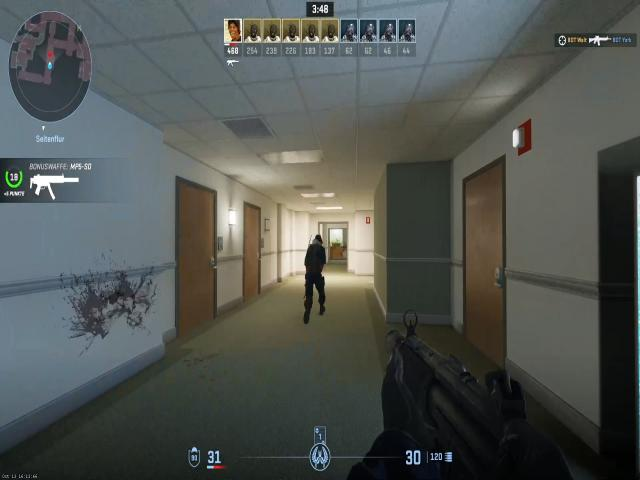CT: (304, 224, 328, 285)
CT-Head: (309, 233, 325, 253)
